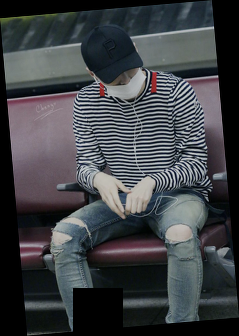mask_weared_incorrect: (99, 69, 149, 101)
